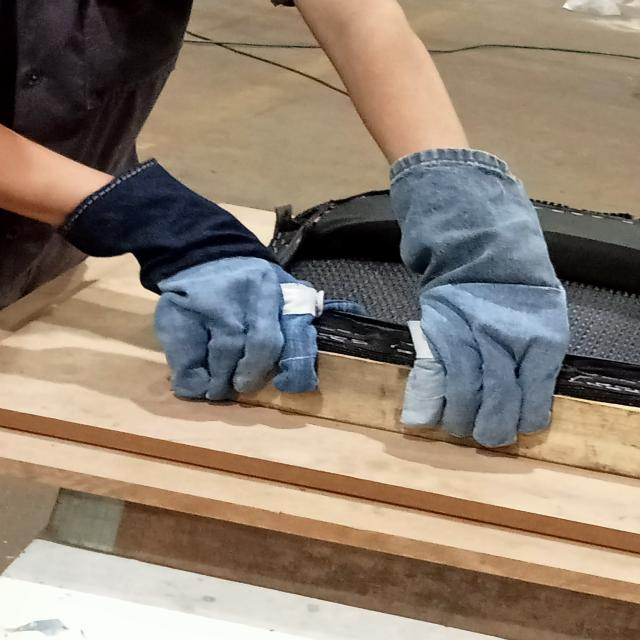Gloves-Detection: (85, 170, 310, 381), (388, 156, 552, 428)
